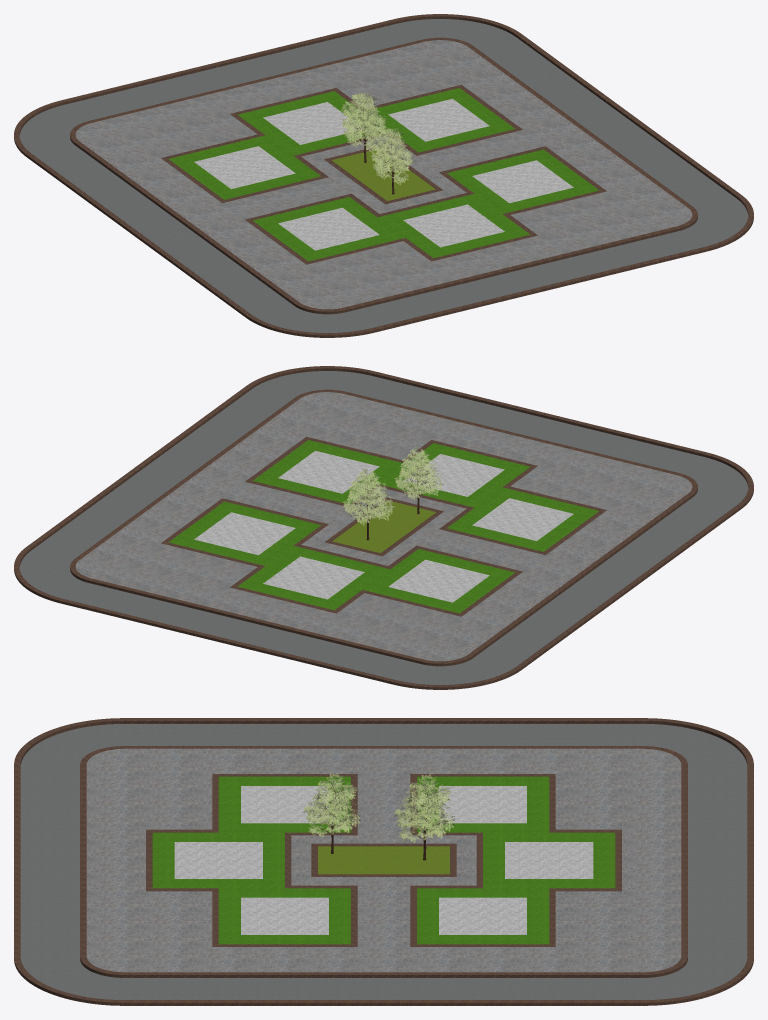
3 renders of one model, top to bottom at view 1: azimuth 30°, elevation 25°; view 2: azimuth 150°, elevation 25°; view 3: azimuth 270°, elevation 25°, orthographic. The views are drawn at different scales.
Visible parts, largest first — view 1: 6) Model - 6.dwg; view 2: 6) Model - 6.dwg; view 3: 6) Model - 6.dwg.
Boxes of the visible parts, x1=… form: 6) Model - 6.dwg: x1=14, y1=14, x2=753, y2=337; 6) Model - 6.dwg: x1=14, y1=366, x2=753, y2=689; 6) Model - 6.dwg: x1=14, y1=718, x2=753, y2=1005.
Size of the model in its own units: 30.6 by 4.21 by 33.6.
Materials: 1130 (1130 with a texture image).
